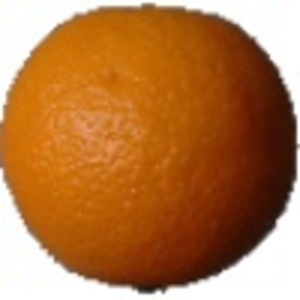laranja: (3, 5, 295, 296)
